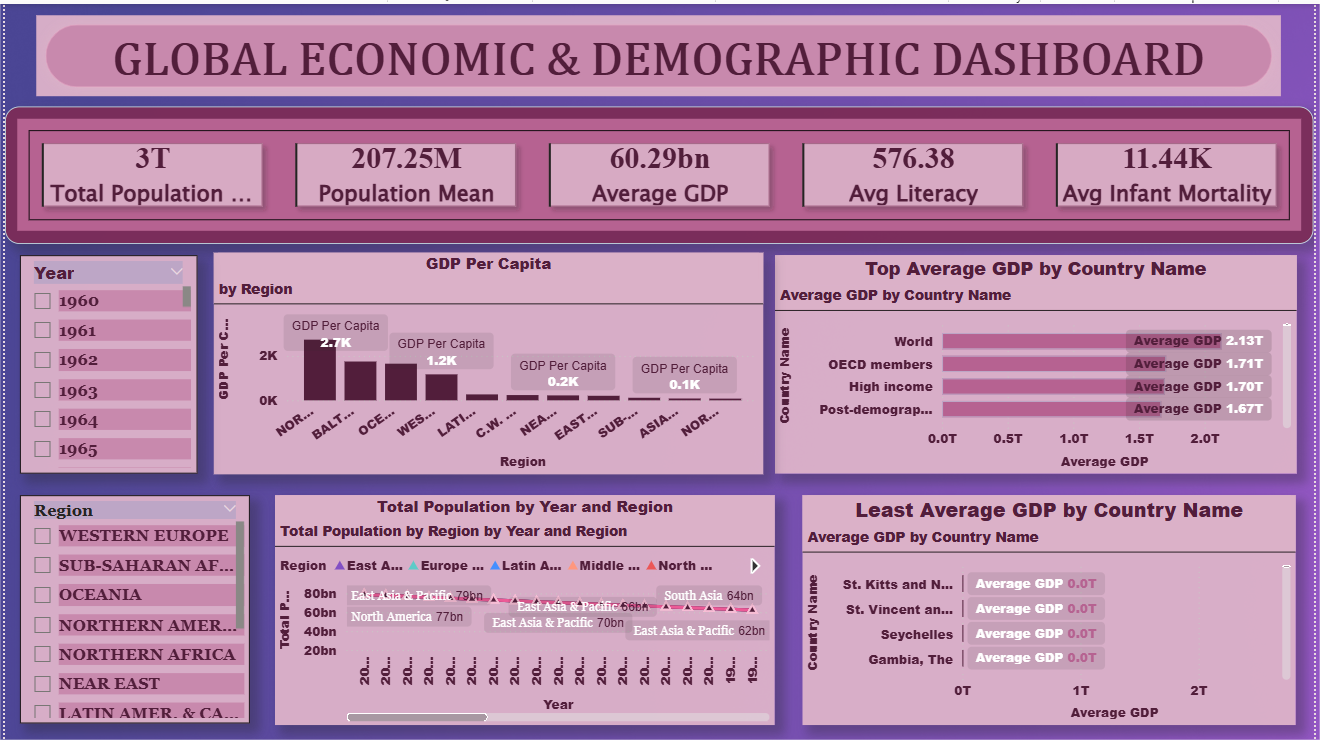

The page's visual inventory and layout, read from the dashboard file:
{"tool":"powerbi","page":{"name":"Dashboard1(Milestone 2)","canvas":[1280,720],"ordinal":0},"visuals":[{"type":"cardVisual","fields":{"Data":["PopulationPerCountry.Total Population by Region","PopulationPerCountry.Population Mean","GDP by country 1960 - 2016.Average GDP","countries countries_world.Avg Literacy","countries countries_world.Avg Infant Mortality"]},"box":[0,100.3,1280.3,134.5],"z":0},{"type":"barChart","title":"Top Average GDP by Country Name","fields":{"Category":["GDP by country 1960 - 2016.Country Name"],"Y":["GDP by country 1960 - 2016.Average GDP"]},"box":[752.9,246.1,510.1,213.7],"z":1000},{"type":"columnChart","fields":{"Category":["countries countries_world.Region"],"Y":["GDP by country 1960 - 2016.GDP Per Capita"]},"box":[204,242.9,537.6,217],"z":2000},{"type":"slicer","fields":{"Values":["countries countries_world.Region"]},"box":[14.6,480.9,225.1,223.5],"z":3000},{"type":"barChart","title":"Least Average GDP by Country Name","fields":{"Category":["GDP by country 1960 - 2016.Country Name"],"Y":["GDP by country 1960 - 2016.Average GDP"]},"box":[780.5,480.9,482.5,225.1],"z":4000},{"type":"shape","box":[30.6,11,1217.9,79.5],"z":5000},{"type":"slicer","fields":{"Values":["GDP by country 1960 - 2016.Year"]},"box":[14.6,246.1,173.3,213.7],"z":7000},{"type":"lineChart","title":"Total Population by Year and Region","fields":{"Category":["PopulationPerCountry.Year"],"Y":["PopulationPerCountry.Total Population by Region"],"Series":["MetaData Country.Region"]},"box":[263.9,480.9,489,225.1],"z":9000}]}

Visuals, with their boxes in screenshot pixels (x1, y1, x2, y2), scaled from the page's 1280x720 canvas onto the 1320x740 screenshot:
cardVisual - PopulationPerCountry.Total Population by Region x PopulationPerCountry.Population Mean: x1=0 y1=103 x2=1319 y2=241
"Top Average GDP by Country Name" barChart: x1=776 y1=253 x2=1302 y2=473
columnChart - countries countries_world.Region x GDP by country 1960 - 2016.GDP Per Capita: x1=210 y1=250 x2=765 y2=473
slicer - countries countries_world.Region: x1=15 y1=494 x2=247 y2=724
"Least Average GDP by Country Name" barChart: x1=805 y1=494 x2=1302 y2=726
shape: x1=32 y1=11 x2=1288 y2=93
slicer - GDP by country 1960 - 2016.Year: x1=15 y1=253 x2=194 y2=473
"Total Population by Year and Region" lineChart: x1=272 y1=494 x2=776 y2=726
